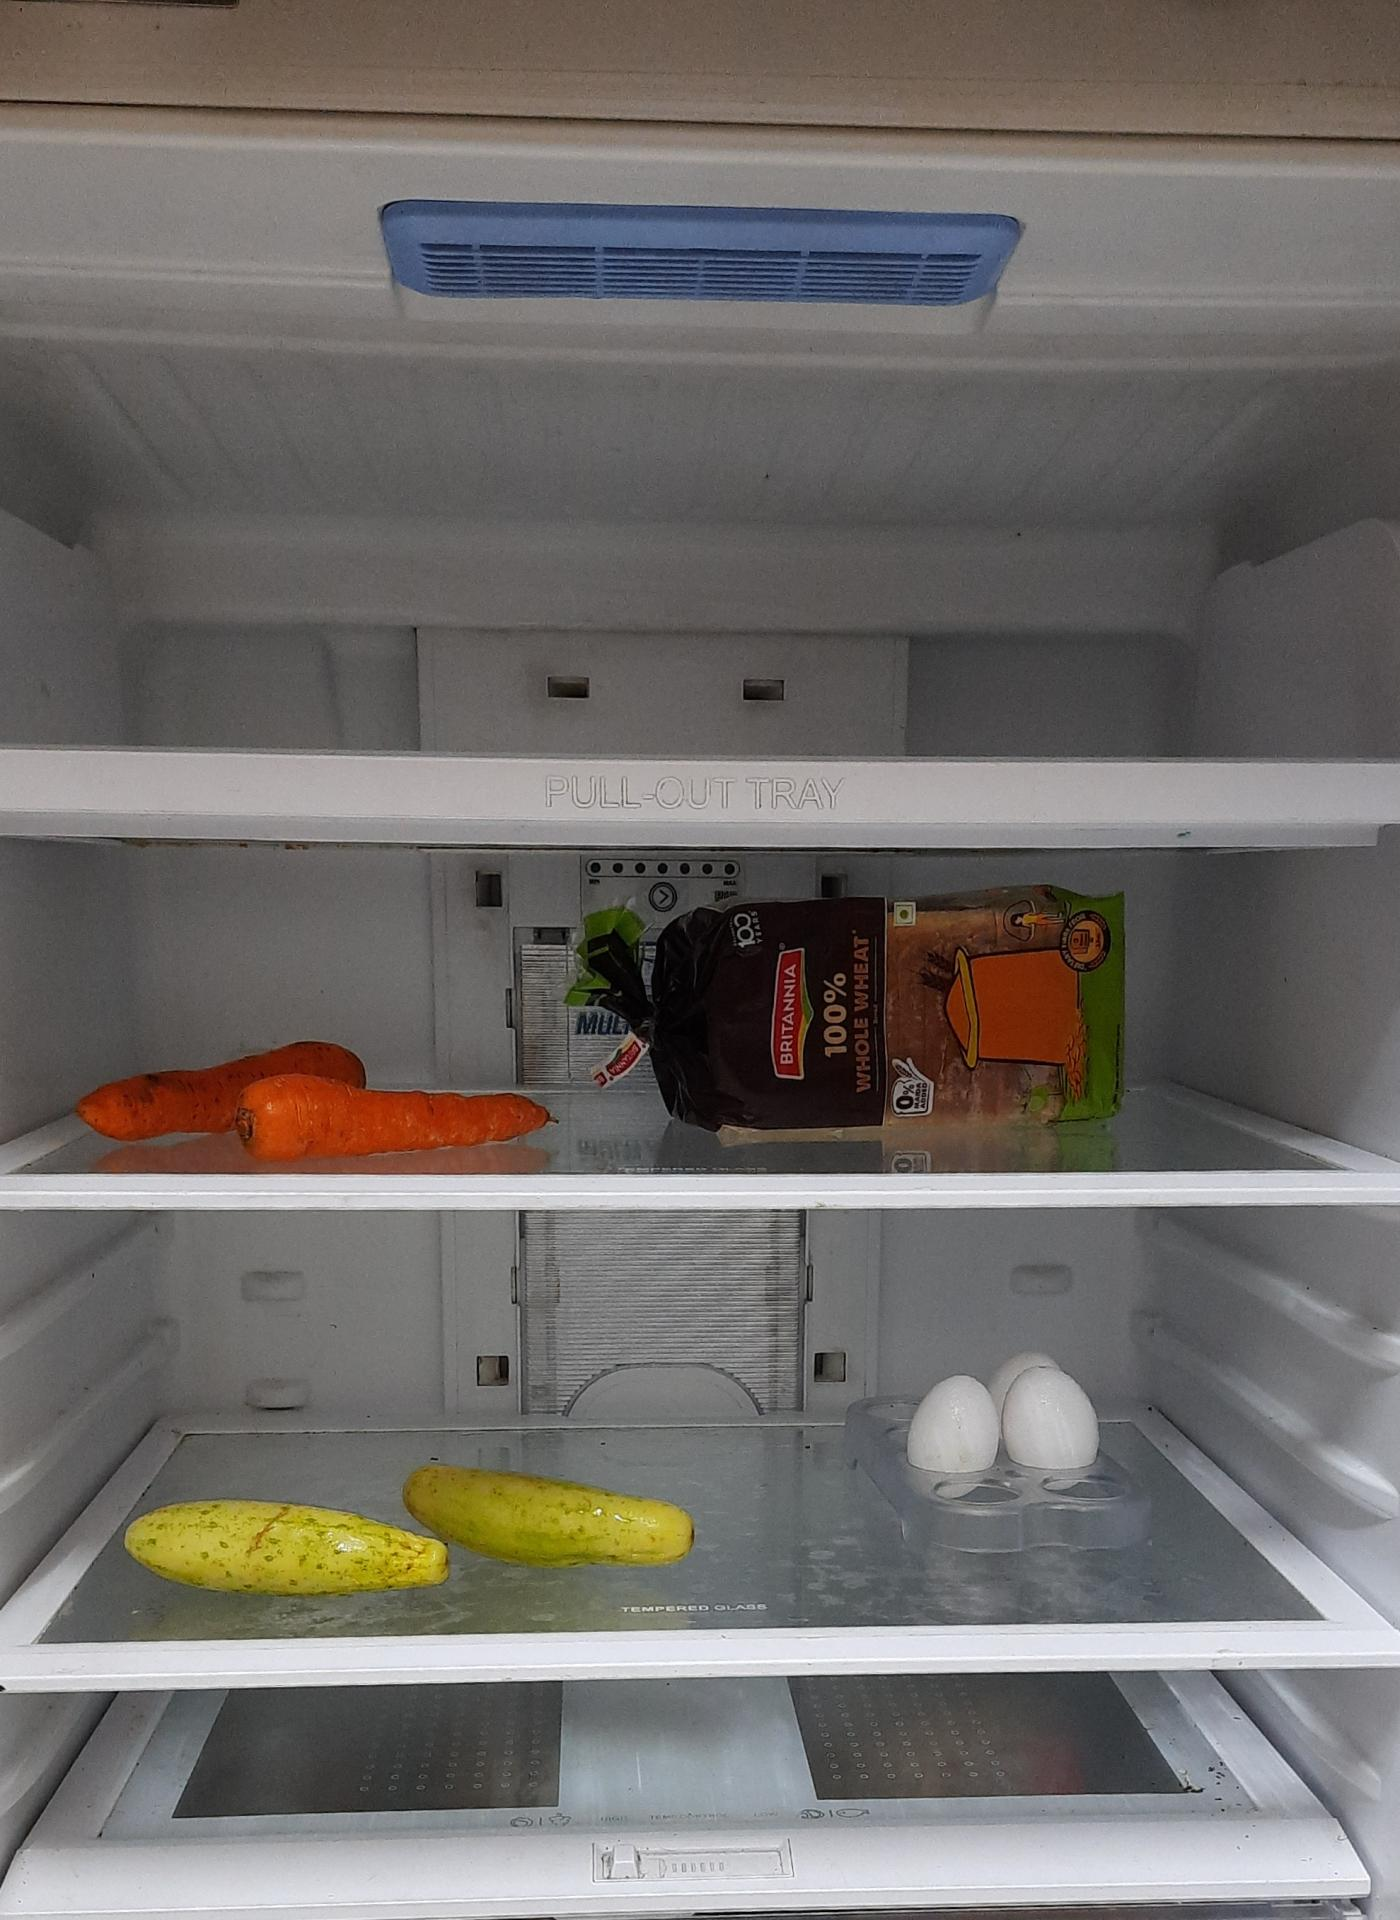bread: (599, 882, 1144, 1145)
carrots: (69, 1039, 550, 1163)
cucumber: (124, 1503, 450, 1607), (397, 1464, 707, 1571)
egg: (909, 1349, 1103, 1495)
